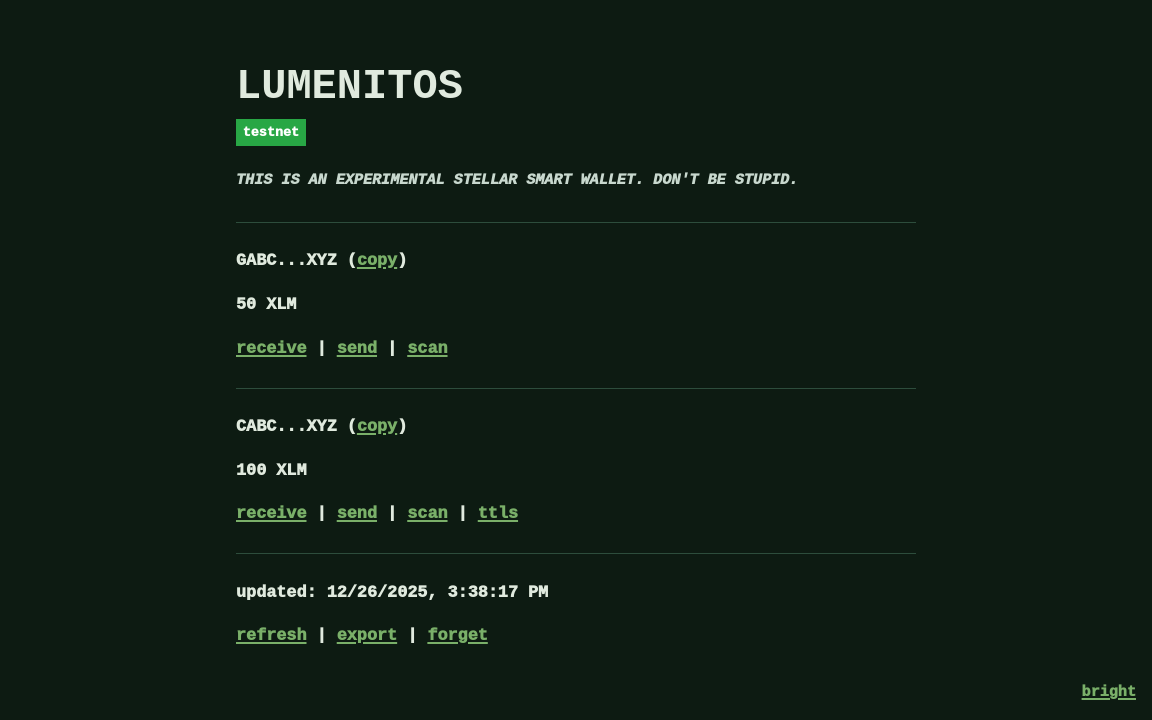
WalletDashboard › Delete confirmation › shows delete confirmation modal
Click the link "forget" at (458, 636), box [427, 626, 488, 645]
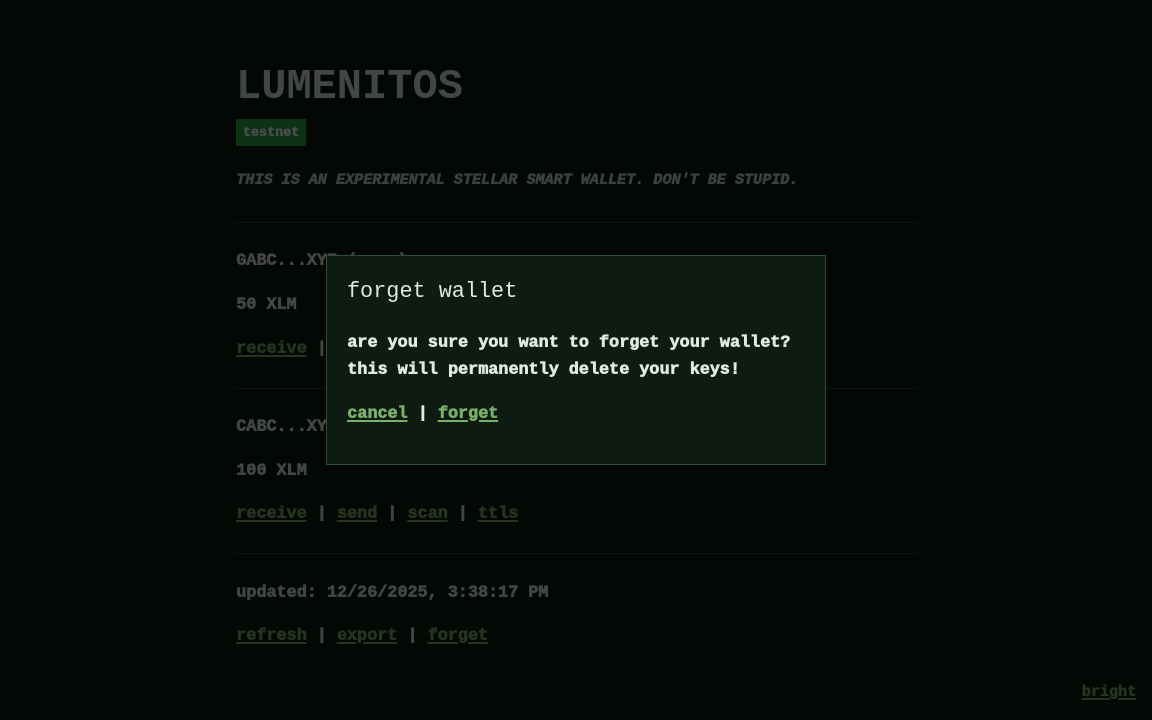
Now the heading "forget wallet" is shown, box [347, 279, 517, 304]
Now the text "permanently delete" is shown, box [347, 333, 790, 379]
